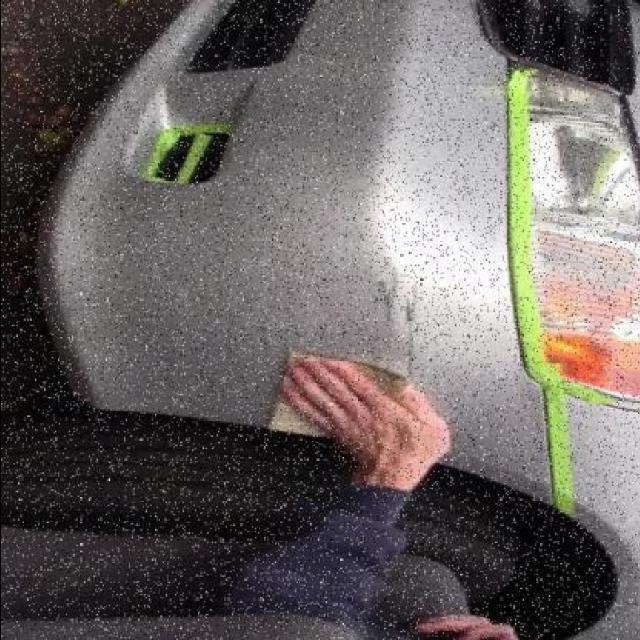front-bumper-dent: (49, 8, 516, 481)
